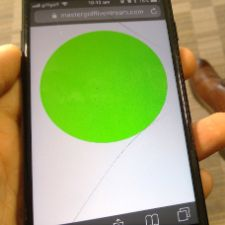focus: (34, 25, 170, 149)
